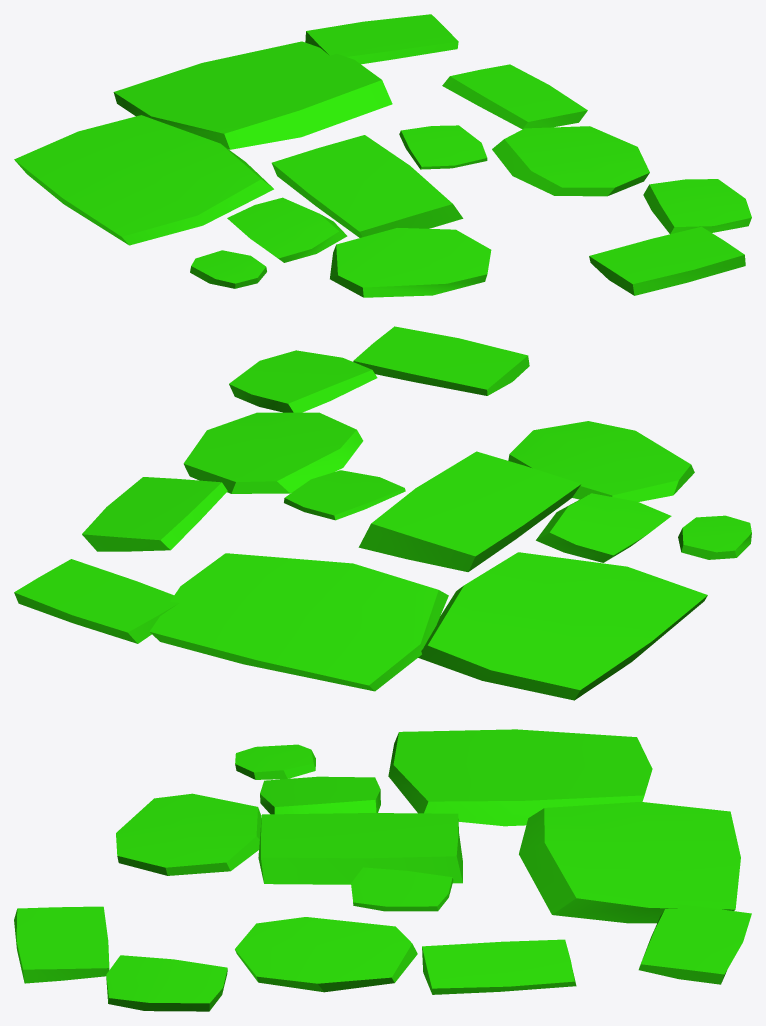
The model's file is Debris_Stone_02A.fbx.
3 views of the same model, one above another, from view 1: azimuth 30°, elevation 25°; view 2: azimuth 150°, elevation 25°; view 3: azimuth 270°, elevation 25° (orthographic). The views are drawn at different scales.
Parts seen in each view (by area): view 1: Debris_Stone_02A; view 2: Debris_Stone_02A; view 3: Debris_Stone_02A.
Boxes of the visible parts, bbox=[...] form: Debris_Stone_02A: bbox=[14, 14, 751, 297]; Debris_Stone_02A: bbox=[14, 326, 751, 700]; Debris_Stone_02A: bbox=[14, 729, 751, 1011].
Bounding box in the file's own units: 161 × 10.55 × 185.
